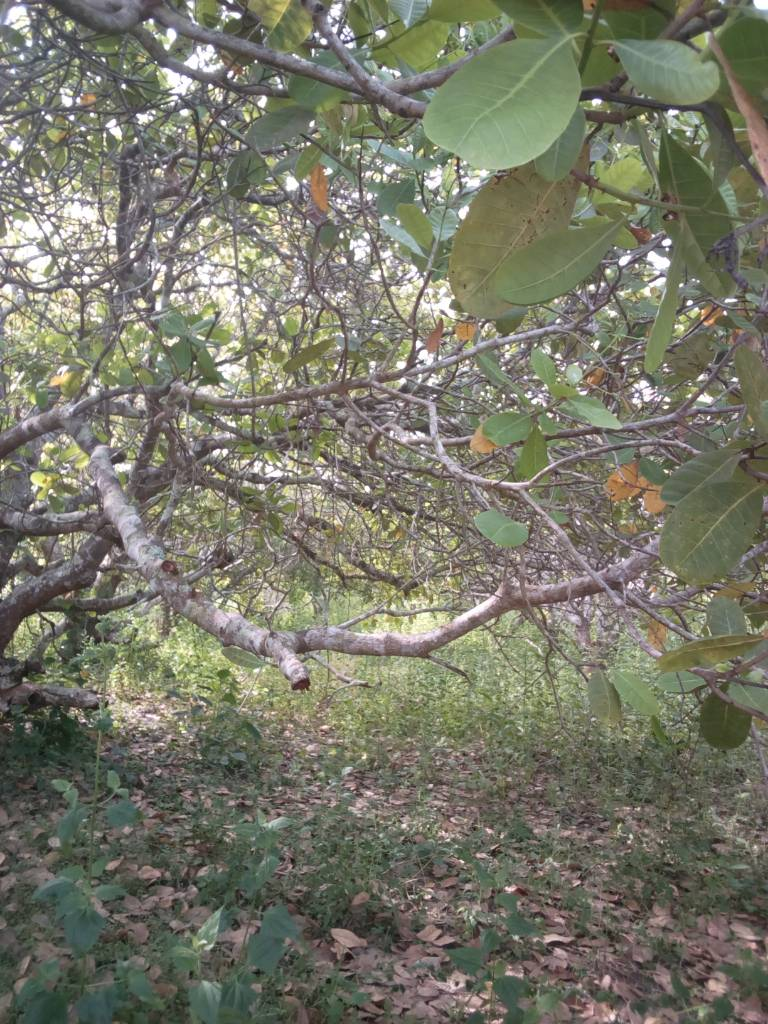Anthracnose: (449, 122, 599, 317)
